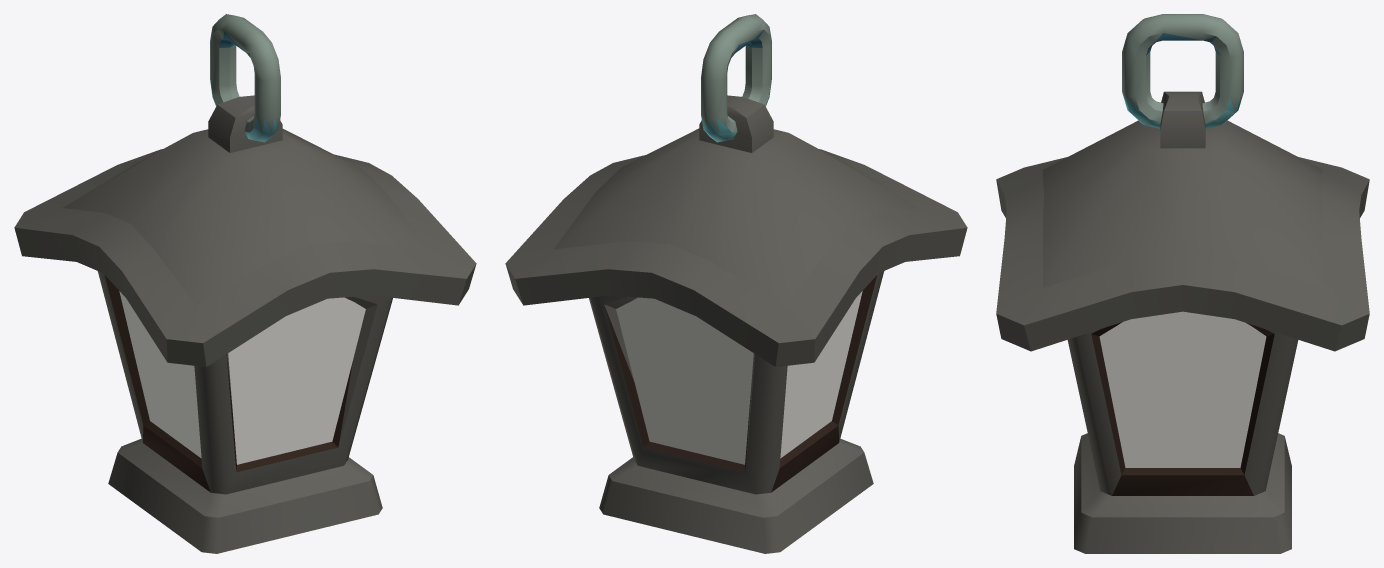
Rendered from itch_kaykit_rpg_tools_lantern.glb.
The picture shows the model from 3 angles, left to right: view 1: azimuth 30°, elevation 25°; view 2: azimuth 150°, elevation 25°; view 3: azimuth 270°, elevation 25°; orthographic projection. The views are drawn at different scales.
Visible parts, largest first — view 1: lantern, lantern_handle; view 2: lantern, lantern_handle; view 3: lantern, lantern_handle.
Part boxes in pixels (<box>): lantern: <box>14,95,476,553</box>; lantern_handle: <box>210,14,280,142</box>; lantern: <box>505,95,967,553</box>; lantern_handle: <box>701,14,771,142</box>; lantern: <box>996,91,1369,553</box>; lantern_handle: <box>1122,14,1243,128</box>.
Size of the model in its own units: 0.96 by 1.41 by 0.96.
